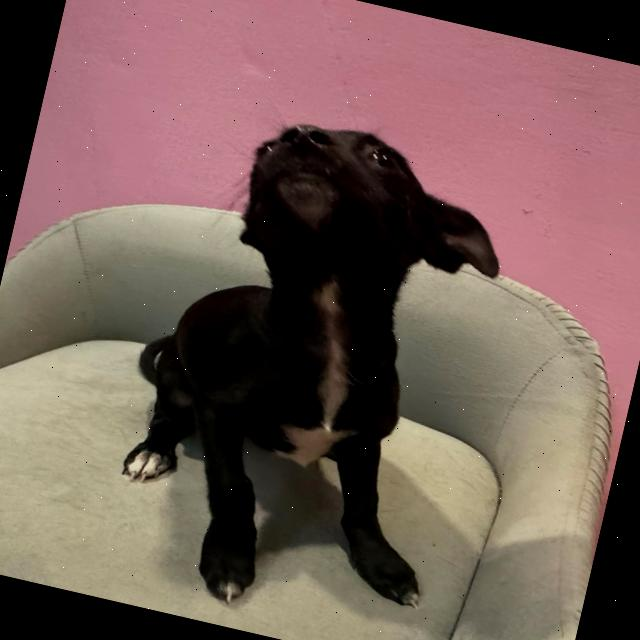chihuahua_dog: (205, 92, 538, 336)
